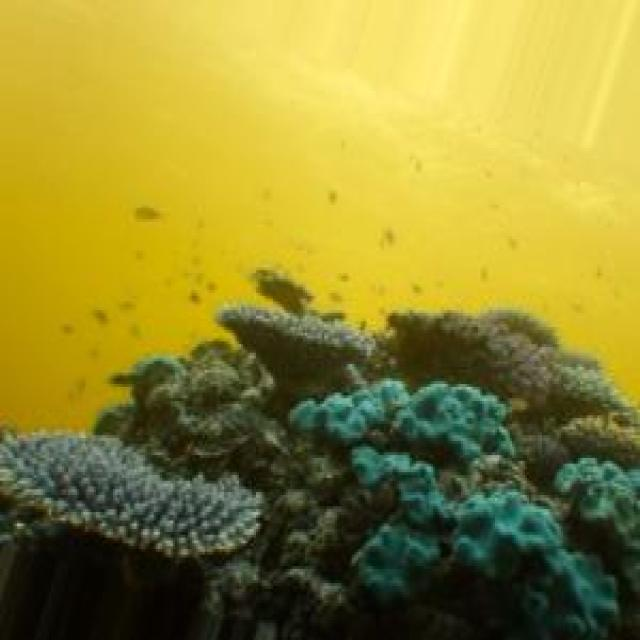Healthy: (97, 317, 640, 640), (353, 479, 618, 640), (1, 436, 268, 561), (293, 382, 515, 479), (554, 459, 640, 638)
